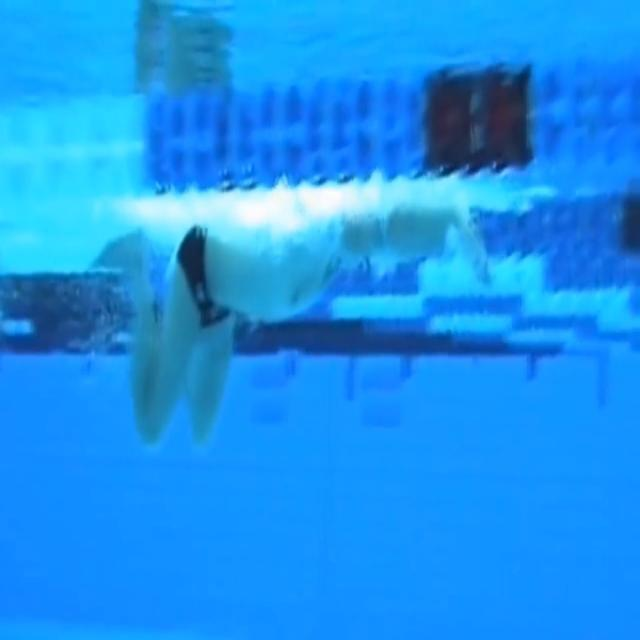Swimming: (93, 197, 452, 453)
